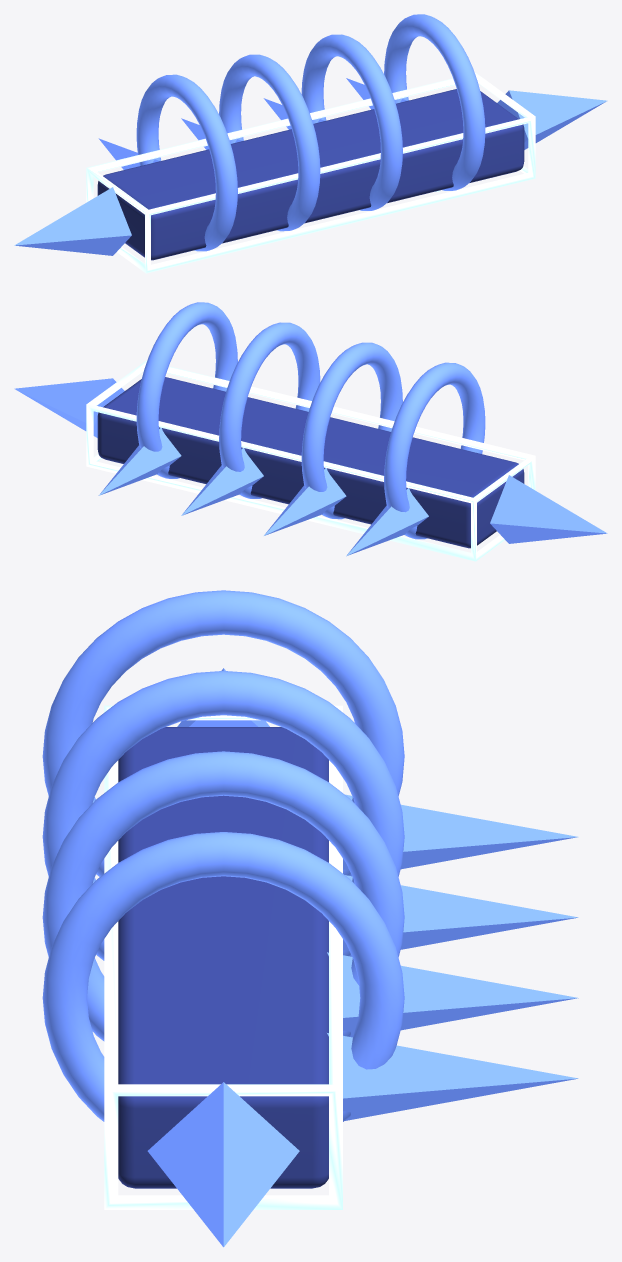
The model's file is Knuckles_Energy.glb.
3 views of the same model, one above another, from view 1: azimuth 30°, elevation 25°; view 2: azimuth 150°, elevation 25°; view 3: azimuth 270°, elevation 25° (orthographic). The views are drawn at different scales.
Visible parts, largest first — view 1: Energy_Blade, Energy_Navy, Energy_Electric; view 2: Energy_Blade, Energy_Navy, Energy_Electric; view 3: Energy_Blade, Energy_Navy, Energy_Electric.
Boxes of the visible parts, x1,y1,x2,y2 form: Energy_Blade: (14,14,607,255); Energy_Navy: (97,89,524,260); Energy_Electric: (86,72,535,273); Energy_Blade: (14,302,607,556); Energy_Navy: (97,377,524,548); Energy_Electric: (86,360,535,561); Energy_Blade: (42,590,578,1247); Energy_Navy: (118,727,328,1188); Energy_Electric: (104,705,342,1209).
Bounding box in the file's own units: 2.16 × 0.57 × 0.845.
